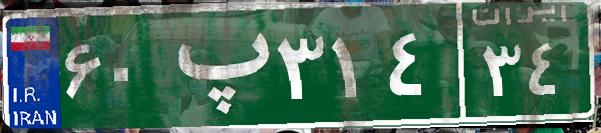0: (110, 28, 158, 105)
1: (330, 28, 385, 110)
3: (273, 28, 330, 110), (475, 38, 525, 113)
4: (385, 28, 445, 110), (525, 38, 570, 115)
6: (57, 26, 110, 107)
پ: (158, 15, 273, 115)
